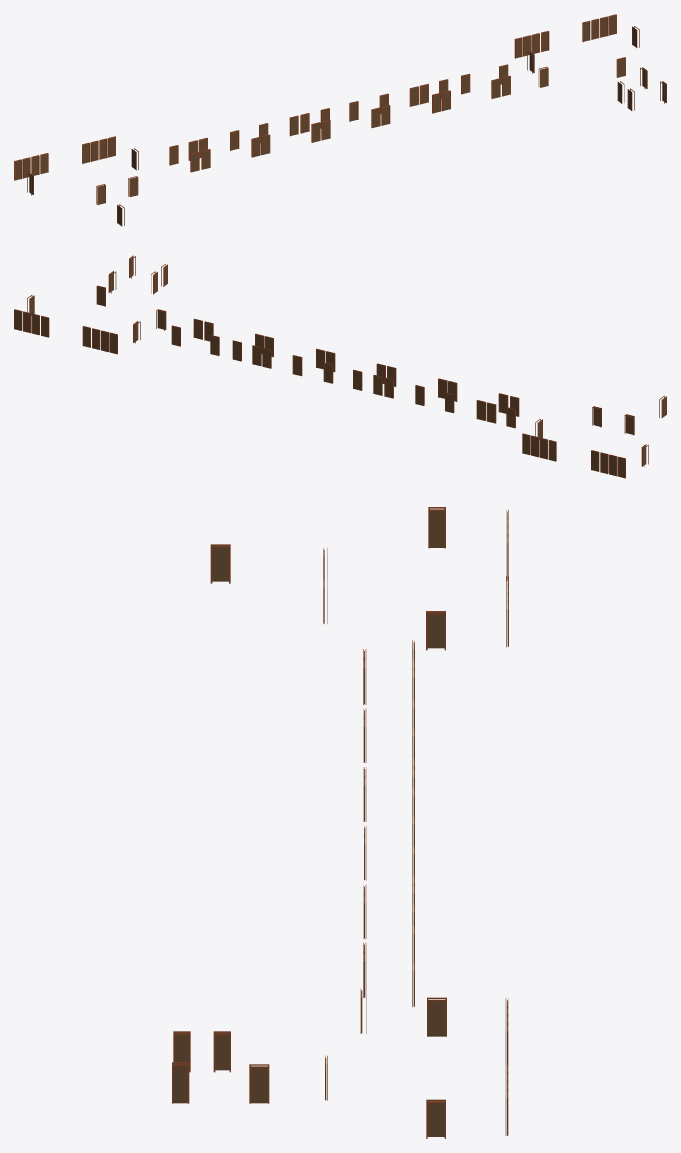
The model's file is insaat_revit.ifc.ifc.ifc_99.5 Foto Geo_IfcDoor.dae.
The picture shows the model from 3 angles, top to bottom: view 1: azimuth 30°, elevation 25°; view 2: azimuth 150°, elevation 25°; view 3: azimuth 270°, elevation 25°; orthographic projection. The views are drawn at different scales.
Size of the model in its own units: 72.83 by 17.5 by 2.21.
